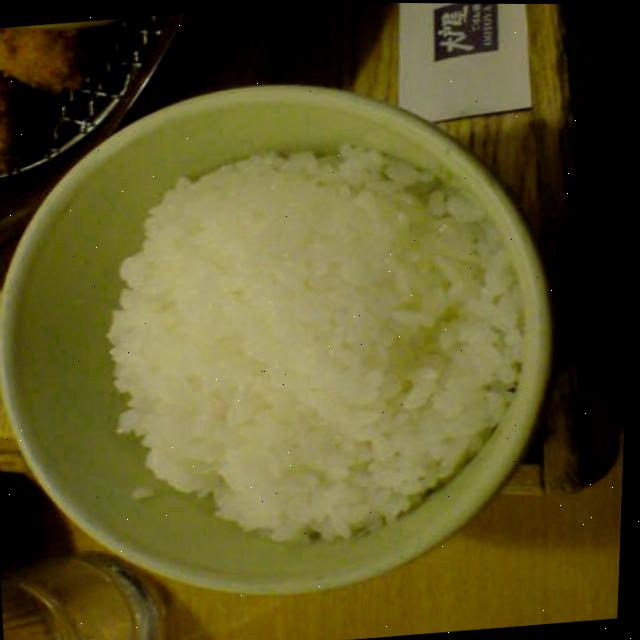米饭主食: (0, 59, 574, 624)
